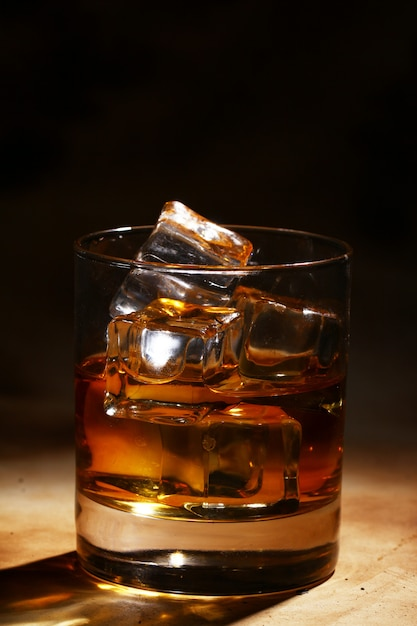alcohol: (73, 198, 353, 588)
